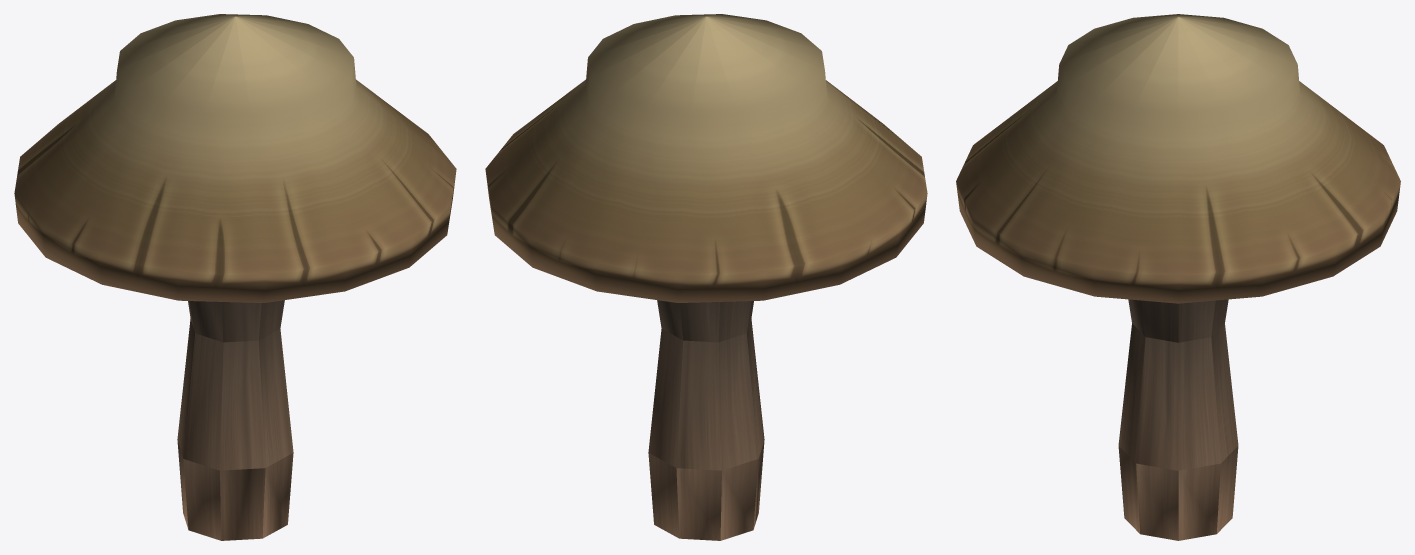
Rendered from VEG0110004.fbx.
3 views of the same model, side by side, from view 1: azimuth 30°, elevation 25°; view 2: azimuth 150°, elevation 25°; view 3: azimuth 270°, elevation 25° (orthographic).
Parts seen in each view (by area): view 1: smVEG0110004; view 2: smVEG0110004; view 3: smVEG0110004.
Part boxes in pixels (x1,y1,x2,y2): smVEG0110004: (14, 14, 456, 540); smVEG0110004: (485, 14, 927, 540); smVEG0110004: (956, 14, 1400, 540).
Bounding box in the file's own units: 24.85 × 30.88 × 24.85.
Materials: 1 (1 with a texture image).
